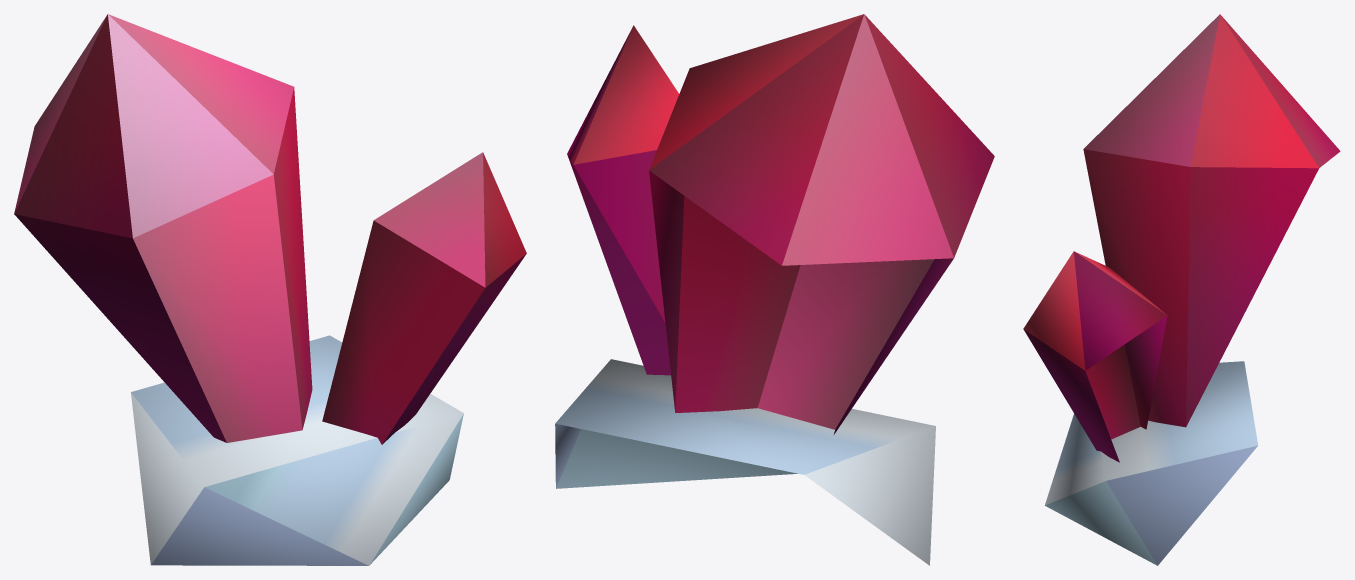
The model's file is fg_ruby_out.dae.
3 views of the same model, side by side, from view 1: azimuth 30°, elevation 25°; view 2: azimuth 150°, elevation 25°; view 3: azimuth 270°, elevation 25° (orthographic). The views are drawn at different scales.
Visible parts, largest first — view 1: fg_ruby_out; view 2: fg_ruby_out; view 3: fg_ruby_out.
Part boxes in pixels (x1,y1,x2,y2): fg_ruby_out: (14,14,526,565); fg_ruby_out: (555,14,994,565); fg_ruby_out: (1023,14,1340,565).
Bounding box in the file's own units: 14.25 × 16.48 × 11.07.
1 material, 1 textured.
